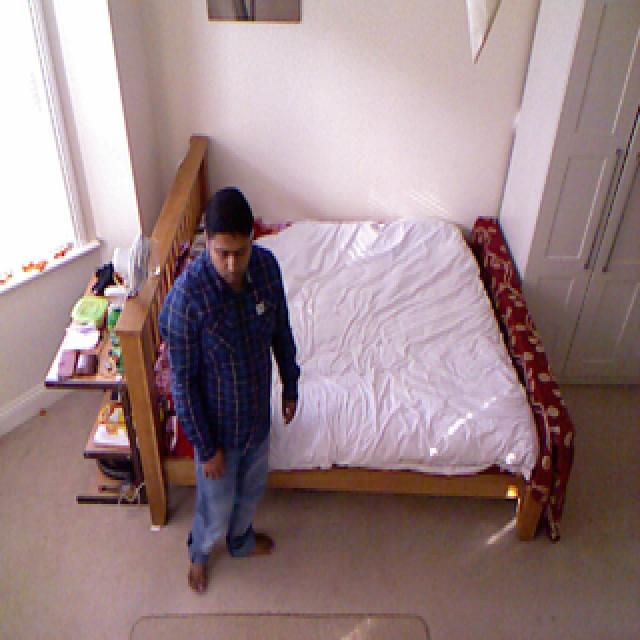standing: (158, 187, 302, 594)
